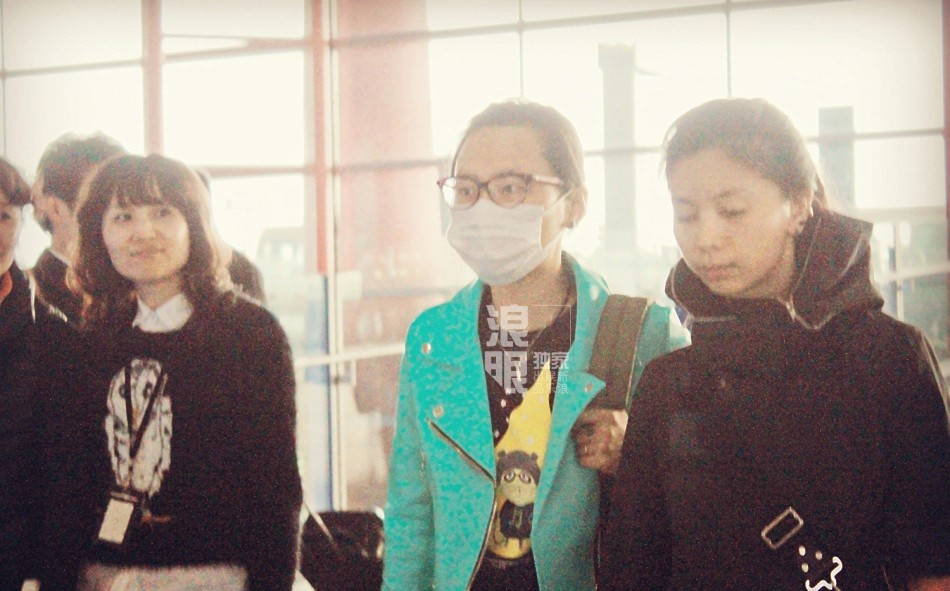face: (672, 149, 775, 292), (106, 191, 188, 281)
face_mask: (444, 126, 557, 280)
